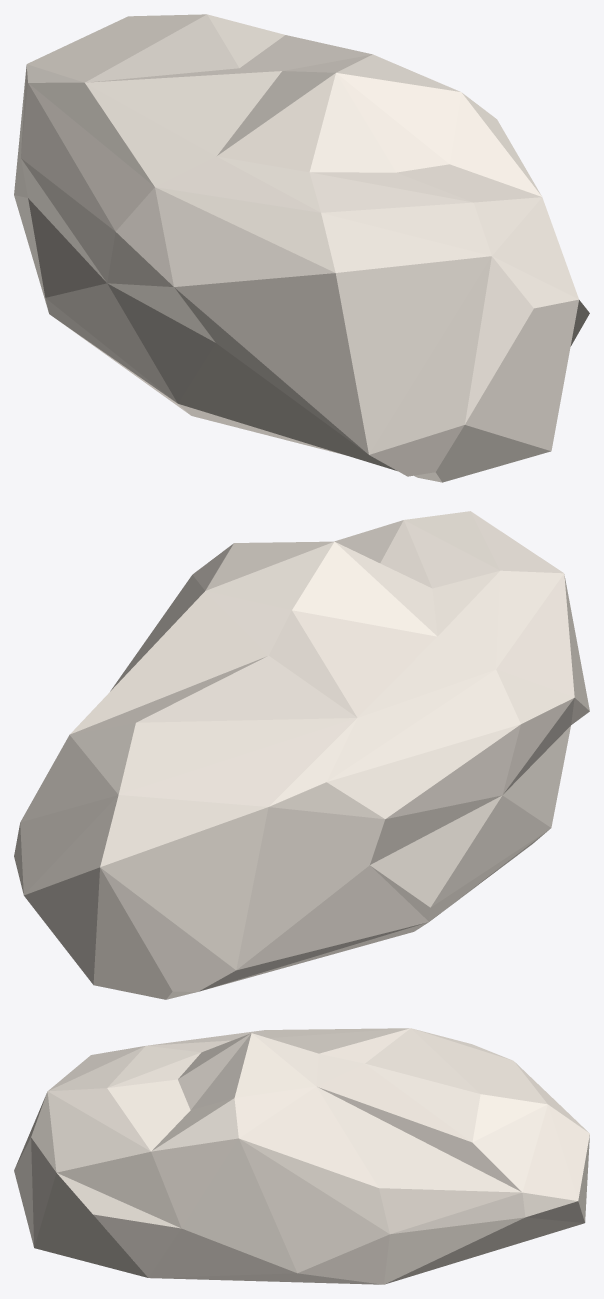
File: Cloud 1.fbx
3 views of the same model, one above another, from view 1: azimuth 30°, elevation 25°; view 2: azimuth 150°, elevation 25°; view 3: azimuth 270°, elevation 25° (orthographic). The views are drawn at different scales.
Parts seen in each view (by area): view 1: Cloud_1; view 2: Cloud_1; view 3: Cloud_1.
Part boxes in pixels (<box>): Cloud_1: <box>14,14,589,482</box>; Cloud_1: <box>14,511,589,999</box>; Cloud_1: <box>14,1028,589,1284</box>.
Bounding box in the file's own units: 197 × 140 × 367.
Materials: 1 (1 with a texture image).
